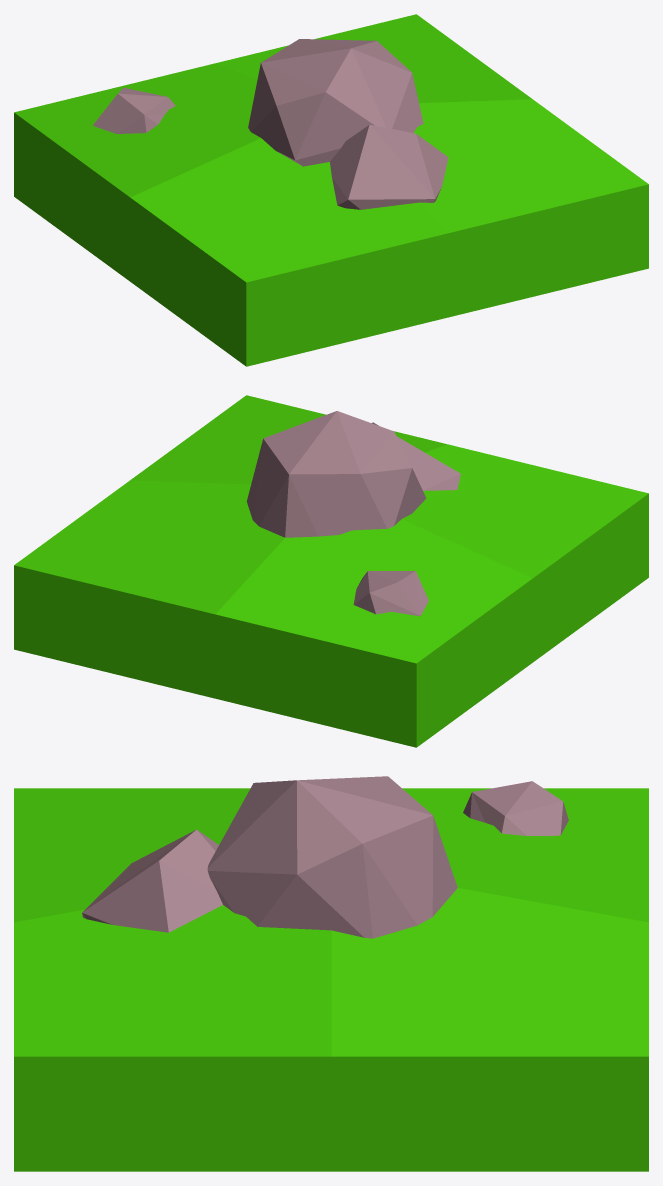
The model's file is RoundRock.fbx.
3 views of the same model, one above another, from view 1: azimuth 30°, elevation 25°; view 2: azimuth 150°, elevation 25°; view 3: azimuth 270°, elevation 25° (orthographic). The views are drawn at different scales.
Visible parts, largest first — view 1: Cube, Icosphere, Icosphere.001, Icosphere.002; view 2: Cube, Icosphere, Icosphere.002, Icosphere.001; view 3: Cube, Icosphere, Icosphere.001, Icosphere.002.
Boxes of the visible parts, x1,y1,x2,y2 form: Cube: (14, 14, 648, 366); Icosphere: (248, 39, 423, 166); Icosphere.001: (330, 124, 448, 209); Icosphere.002: (93, 87, 175, 133); Cube: (14, 395, 648, 747); Icosphere: (247, 411, 426, 537); Icosphere.002: (353, 571, 428, 616); Icosphere.001: (372, 422, 460, 490); Cube: (14, 788, 648, 1171); Icosphere: (207, 776, 457, 938); Icosphere.001: (82, 829, 222, 932); Icosphere.002: (463, 781, 568, 835).
Size of the model in its own units: 500 by 228 by 500.
